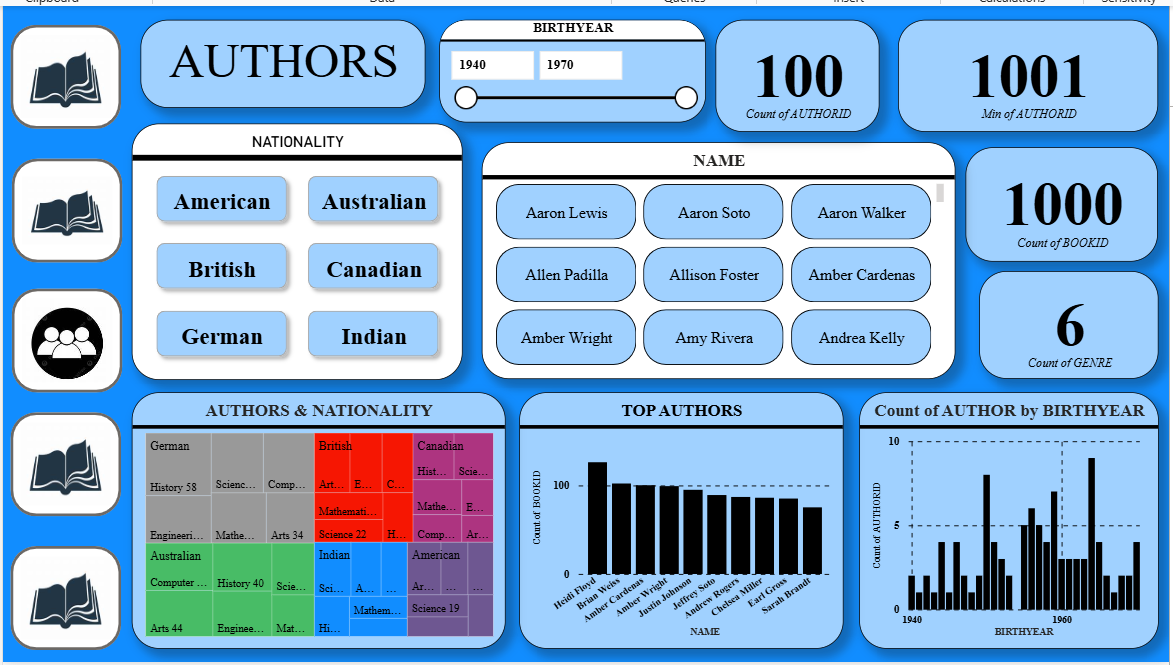

This screenshot's page, from the dashboard's own definition file:
{"tool":"powerbi","page":{"name":"Page 2","canvas":[1280,720],"ordinal":2},"visuals":[{"type":"textbox","box":[151.4,15.7,312.9,97.1],"z":0},{"type":"advancedSlicerVisual","fields":{"Values":["2025-06-02 11_23am (1).NATIONALITY"]},"box":[141.4,128.6,362.9,281.4],"z":1000},{"type":"slicer","title":"BIRTHYEAR","fields":{"Values":["2025-06-02 11_23am (1).BIRTHYEAR"]},"box":[478.6,15.7,292.9,112.9],"z":2000},{"type":"card","fields":{"Values":["2025-06-02 11_23am (1).AUTHORID"]},"box":[982.5,15.1,285.4,123.5],"z":3000},{"type":"card","fields":{"Values":["2025-06-02 11_23am (2).BOOKID"]},"box":[1057.1,155.7,211.4,125.7],"z":4000},{"type":"card","fields":{"Values":["2025-06-02 11_23am (2).GENRE"]},"box":[1071.4,291.4,197.1,118.6],"z":5000},{"type":"advancedSlicerVisual","fields":{"Values":["2025-06-02 11_23am (1).NAME"]},"box":[525.7,150,520,260],"z":6000},{"type":"clusteredColumnChart","title":"Count of AUTHOR by BIRTHYEAR","fields":{"Category":["2025-06-02 11_23am (1).BIRTHYEAR"],"Y":["2025-06-02 11_23am (1).AUTHORID"]},"box":[940,424.3,328.6,281.4],"z":7000},{"type":"card","fields":{"Values":["2025-06-02 11_23am (1).AUTHORID"]},"box":[782.2,15.1,179.8,123.5],"z":8000},{"type":"clusteredColumnChart","title":"TOP AUTHORS","fields":{"Category":["2025-06-02 11_23am (1).NAME"],"Y":["2025-06-02 11_23am.BOOKID"]},"box":[567.1,424.3,355.7,281.4],"z":9000},{"type":"treemap","title":"AUTHORS & NATIONALITY","fields":{"Group":["2025-06-02 11_23am (1).NATIONALITY"],"Details":["2025-06-02 11_23am (2).GENRE"],"Values":["2025-06-02 11_23am (2).BOOKID"]},"box":[141.4,424.3,410,281.4],"z":10000},{"type":"actionButton","box":[8.6,20,121.4,114.3],"z":12000},{"type":"actionButton","box":[10,310,121.4,114.3],"z":13000},{"type":"actionButton","box":[10,167.1,121.4,114.3],"z":14000},{"type":"actionButton","box":[8.9,446.6,121.4,114.3],"z":15000},{"type":"actionButton","box":[8.9,592.3,121.4,114.3],"z":16000}]}

Visuals, with their boxes on the page's 1280x720 design canvas (x1, y1, x2, y2). These are canvas units, not pixel positions in the 1173x665 screenshot, which may show the page scaled, cropped or inside an application window:
textbox: [x1=151, y1=16, x2=464, y2=113]
advancedSlicerVisual - 2025-06-02 11_23am (1).NATIONALITY: [x1=141, y1=129, x2=504, y2=410]
"BIRTHYEAR" slicer: [x1=479, y1=16, x2=772, y2=129]
card - 2025-06-02 11_23am (1).AUTHORID: [x1=982, y1=15, x2=1268, y2=139]
card - 2025-06-02 11_23am (2).BOOKID: [x1=1057, y1=156, x2=1268, y2=281]
card - 2025-06-02 11_23am (2).GENRE: [x1=1071, y1=291, x2=1268, y2=410]
advancedSlicerVisual - 2025-06-02 11_23am (1).NAME: [x1=526, y1=150, x2=1046, y2=410]
"Count of AUTHOR by BIRTHYEAR" clusteredColumnChart: [x1=940, y1=424, x2=1269, y2=706]
card - 2025-06-02 11_23am (1).AUTHORID: [x1=782, y1=15, x2=962, y2=139]
"TOP AUTHORS" clusteredColumnChart: [x1=567, y1=424, x2=923, y2=706]
"AUTHORS & NATIONALITY" treemap: [x1=141, y1=424, x2=551, y2=706]
actionButton: [x1=9, y1=20, x2=130, y2=134]
actionButton: [x1=10, y1=310, x2=131, y2=424]
actionButton: [x1=10, y1=167, x2=131, y2=281]
actionButton: [x1=9, y1=447, x2=130, y2=561]
actionButton: [x1=9, y1=592, x2=130, y2=707]
